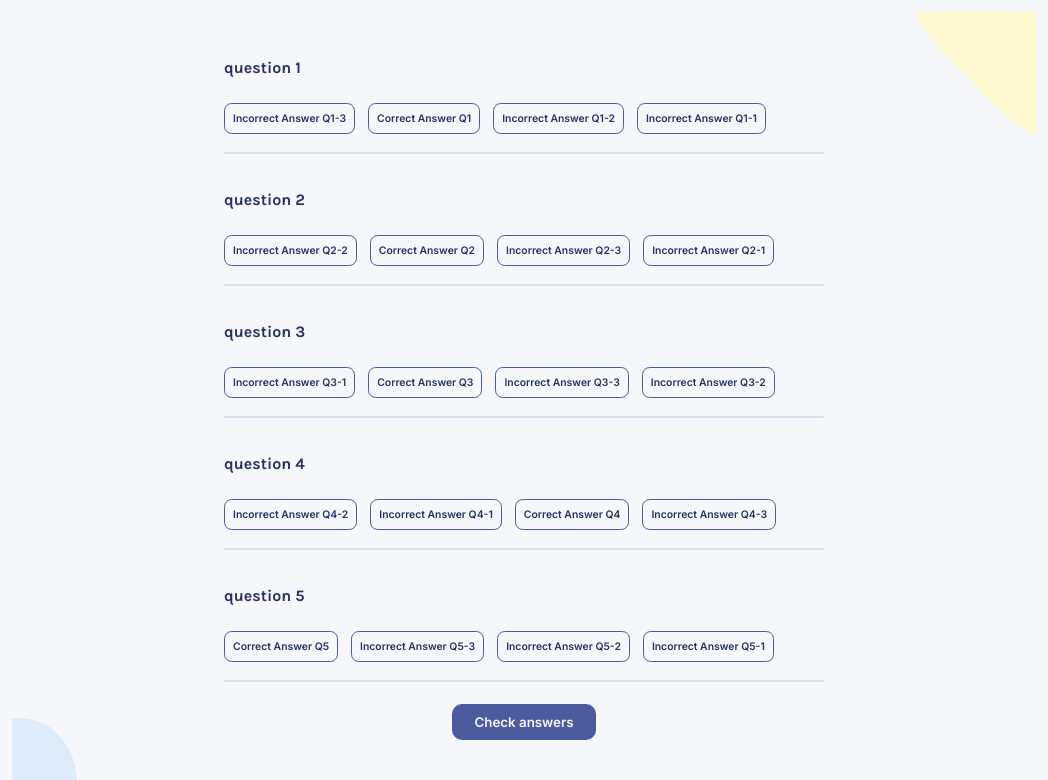
it: App component › should show the ScoreBoard component and the play again button when the Check answers button is clicked
This screenshot has width=1048, height=780.
What coordinates should you click on to do the following:
click the text "correct answer q1"
I would click on:
 (424, 118)
Its box is [368,103,480,134].
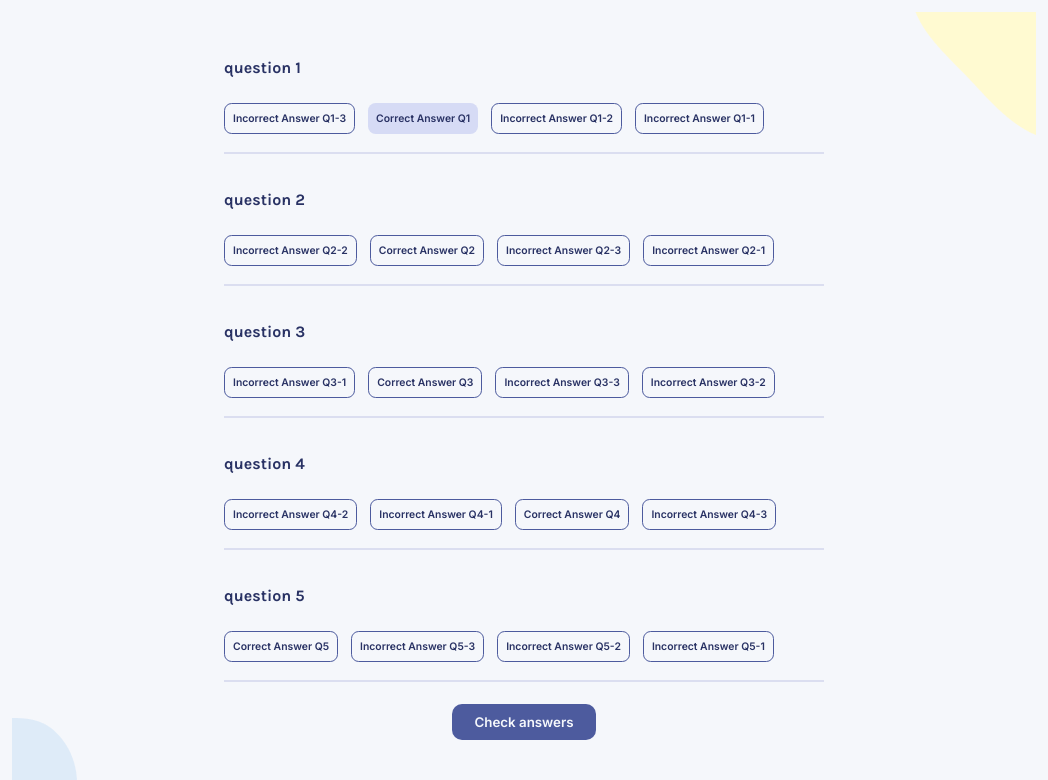
What coordinates should you click on to do the following:
click the text "correct answer q2"
I would click on:
 (427, 250)
Its box is [370,235,484,266].
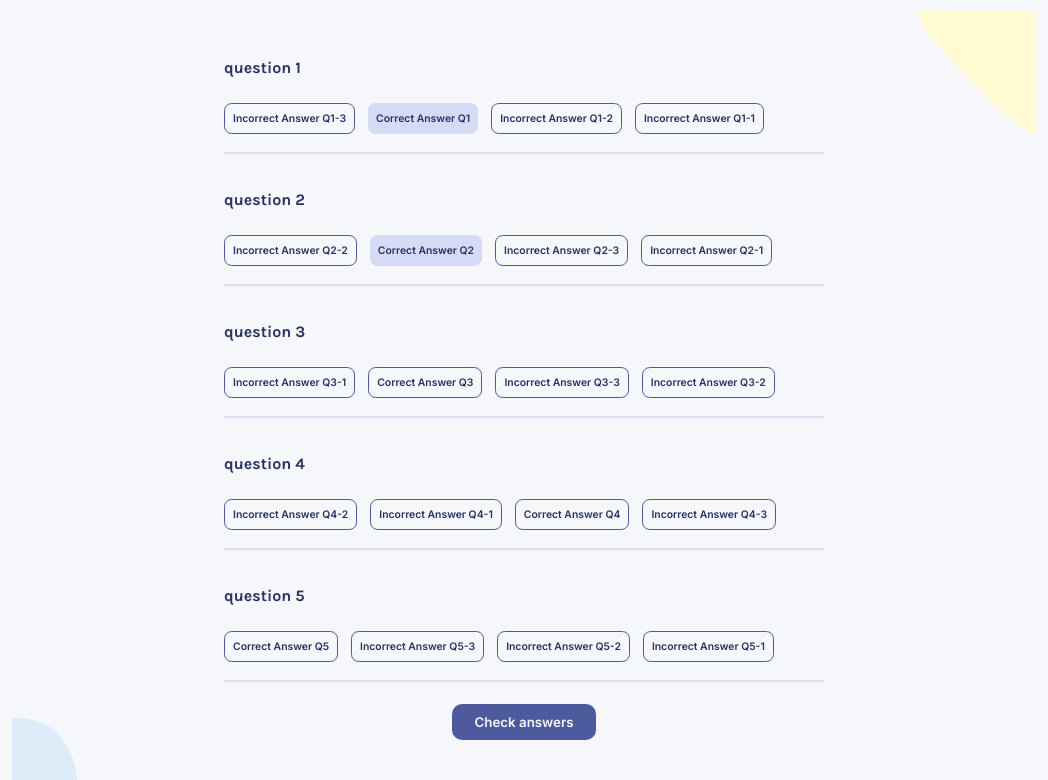
What coordinates should you click on to do the following:
click the button "Check answers"
I would click on:
 (524, 722)
Its box is [452,704,596,740].
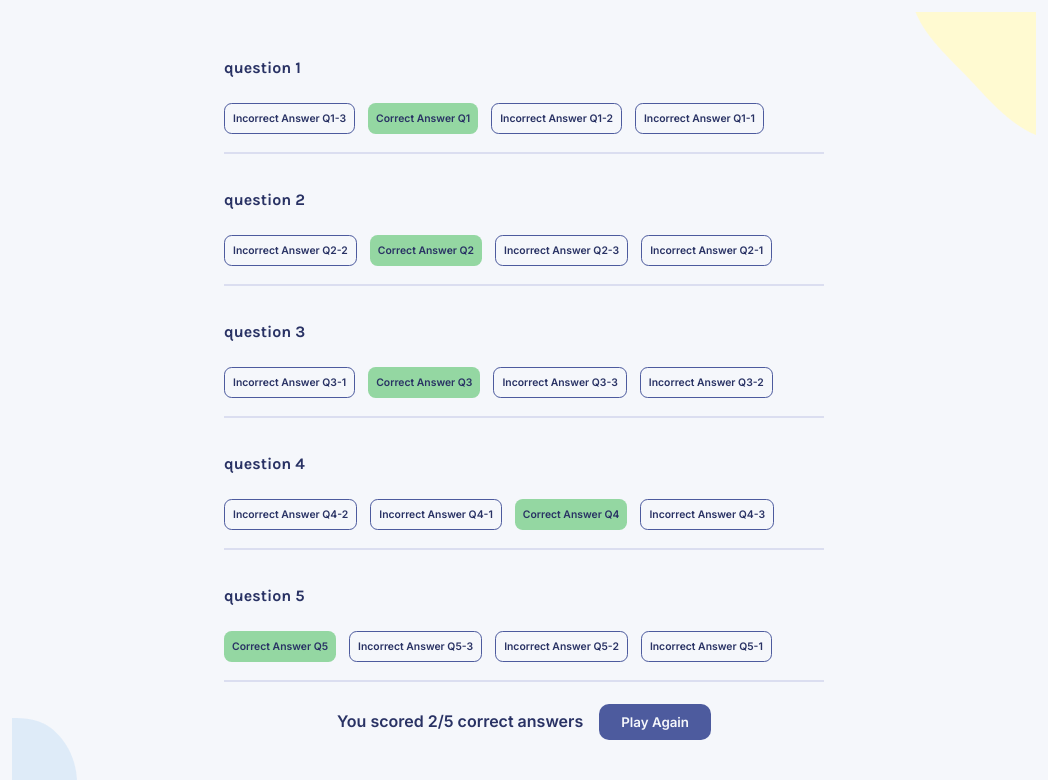
Now the text "You scored 2/5 correct answers" is shown, box [337,711,583,731]
Now the button "Play Again" is shown, box [599,704,711,740]
